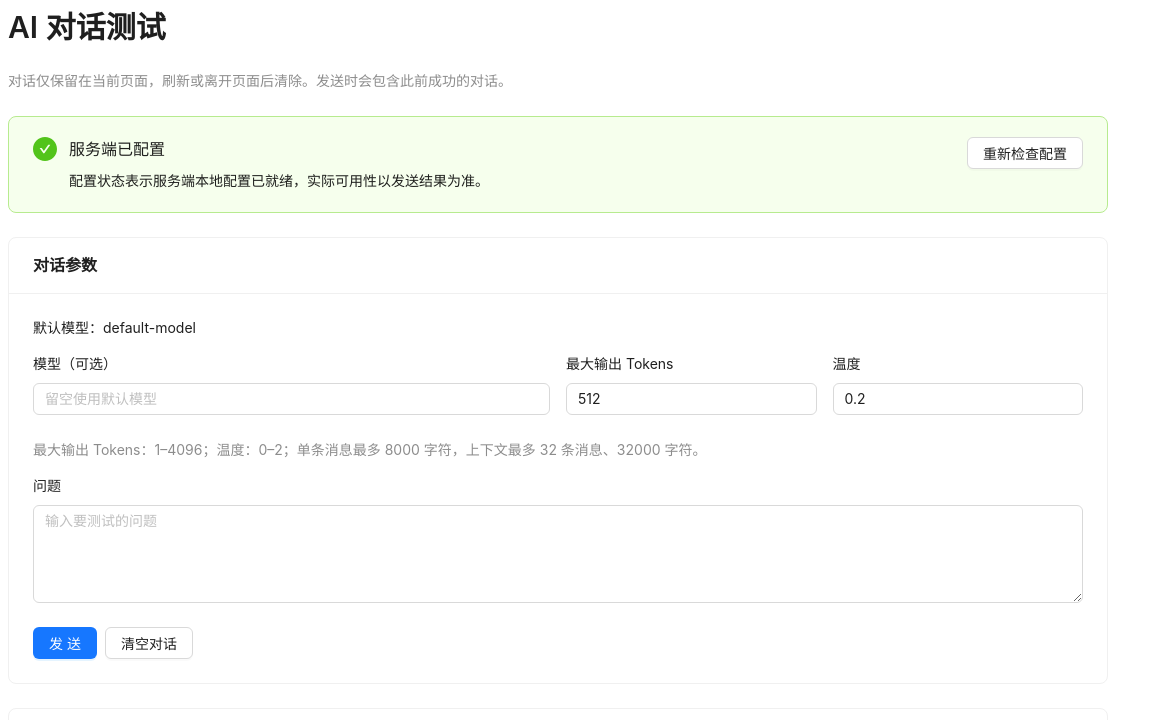
it: AI dialogue at the HTTP boundary › rejects invalid 最大输出 Tokens value 0
Expected: the text box labelled "问题" is shown, [33,505,1083,603]
Expected: the text "服务端已配置" is shown, [69,139,165,159]
Replace the text in the number field labelled "最大输出 Tokens" with "0": (691, 399) [567,384,816,414]
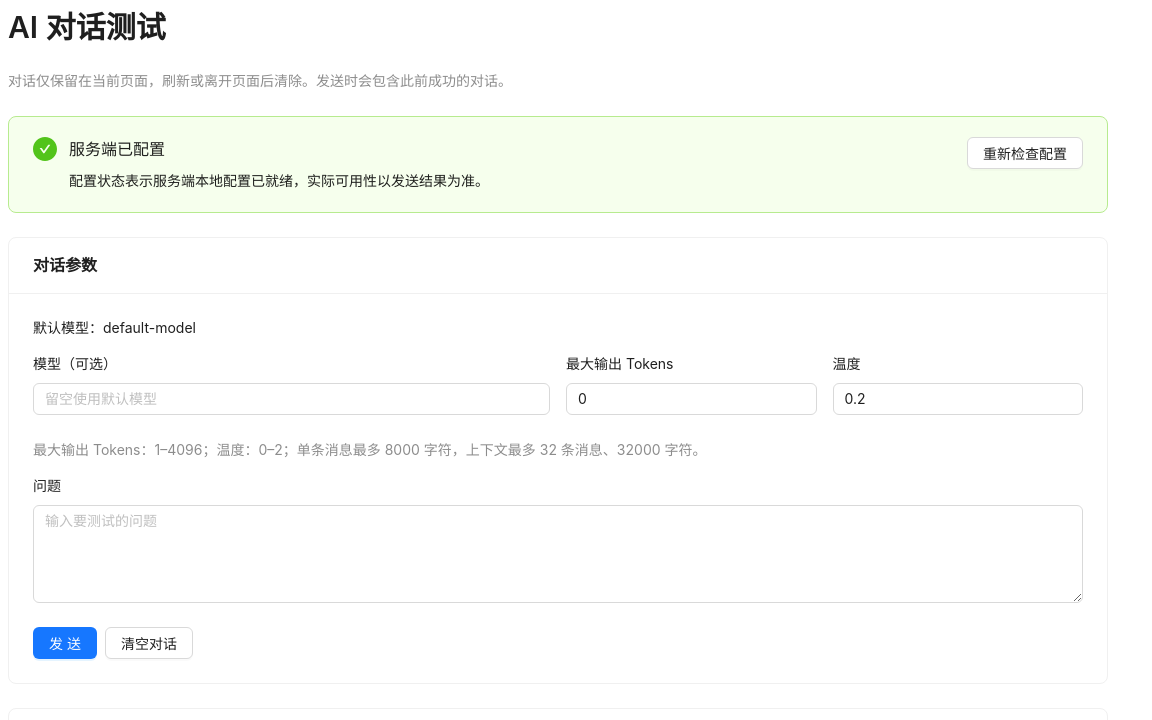
In the text box labelled "问题": (558, 554) [33,505,1083,603], type "你好"
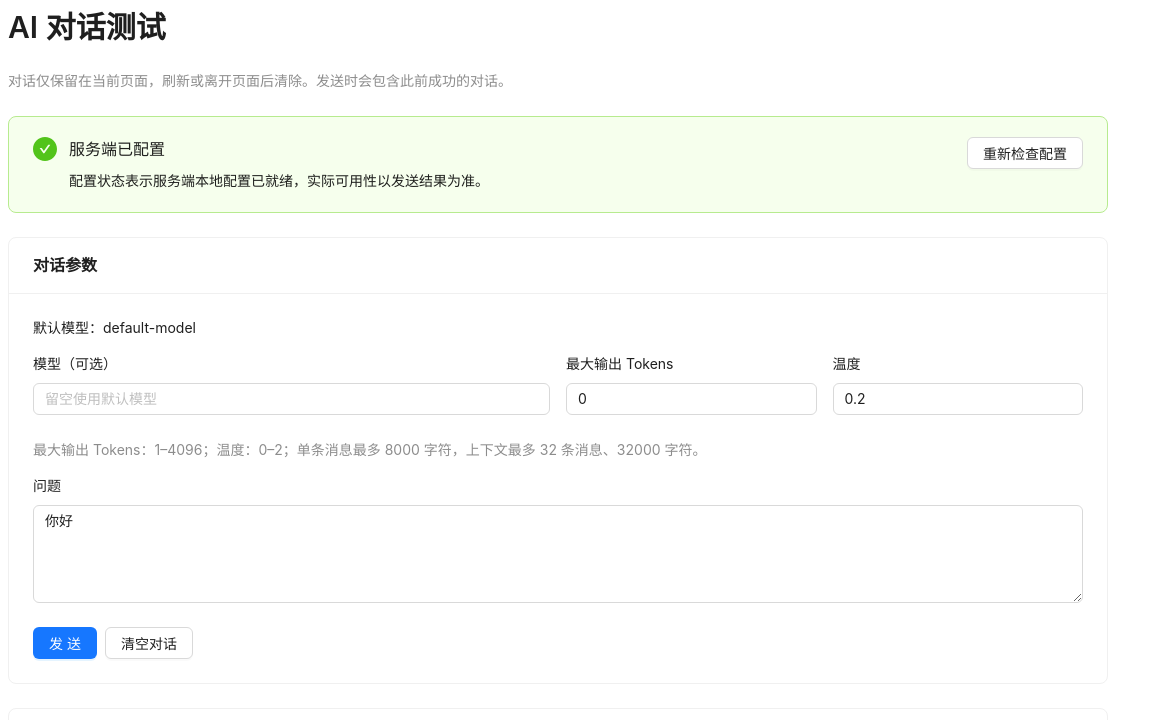
Click the button named "发送": (65, 643) [33,627,97,659]
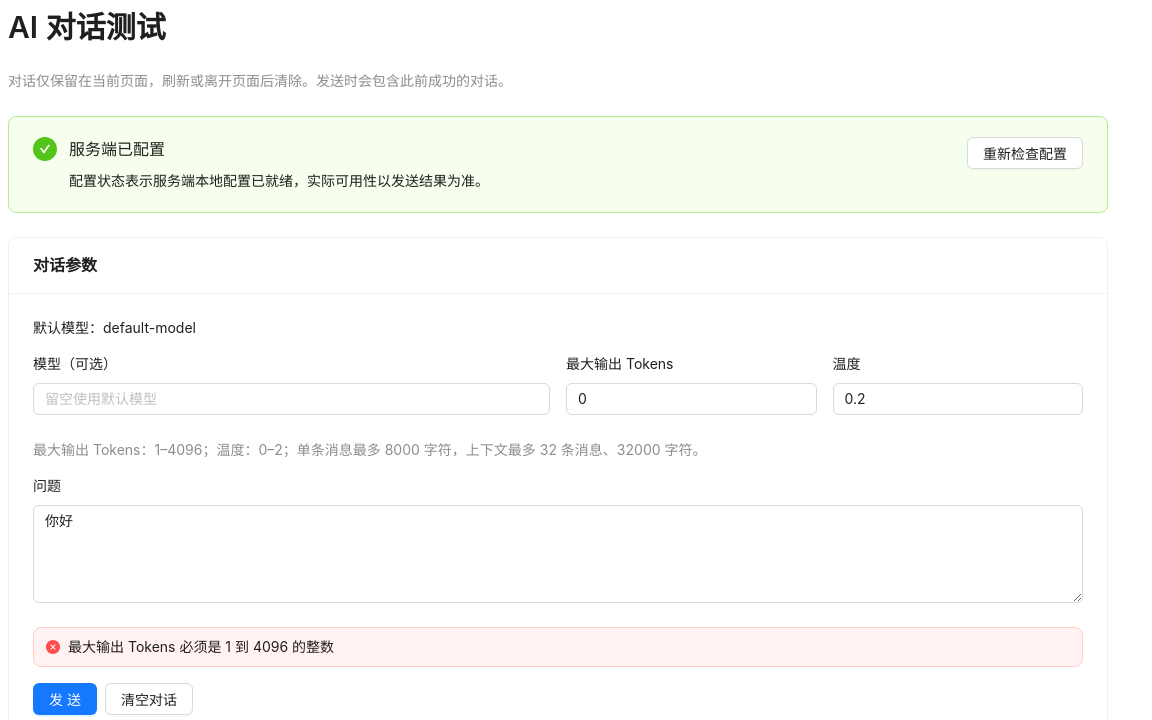
Expected: the text "最大输出 Tokens 必须是 1 到 4096 的整数" is shown, [68,638,334,655]
